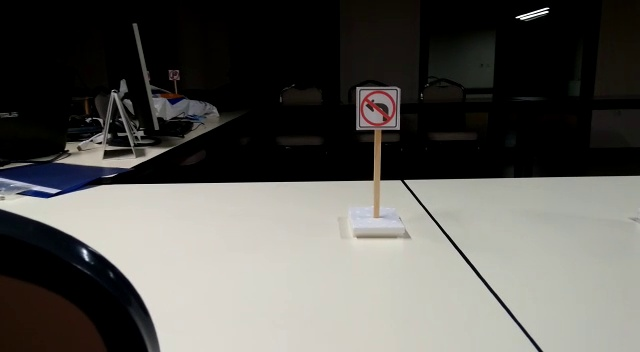sola_donulmez: (358, 88, 392, 127)
